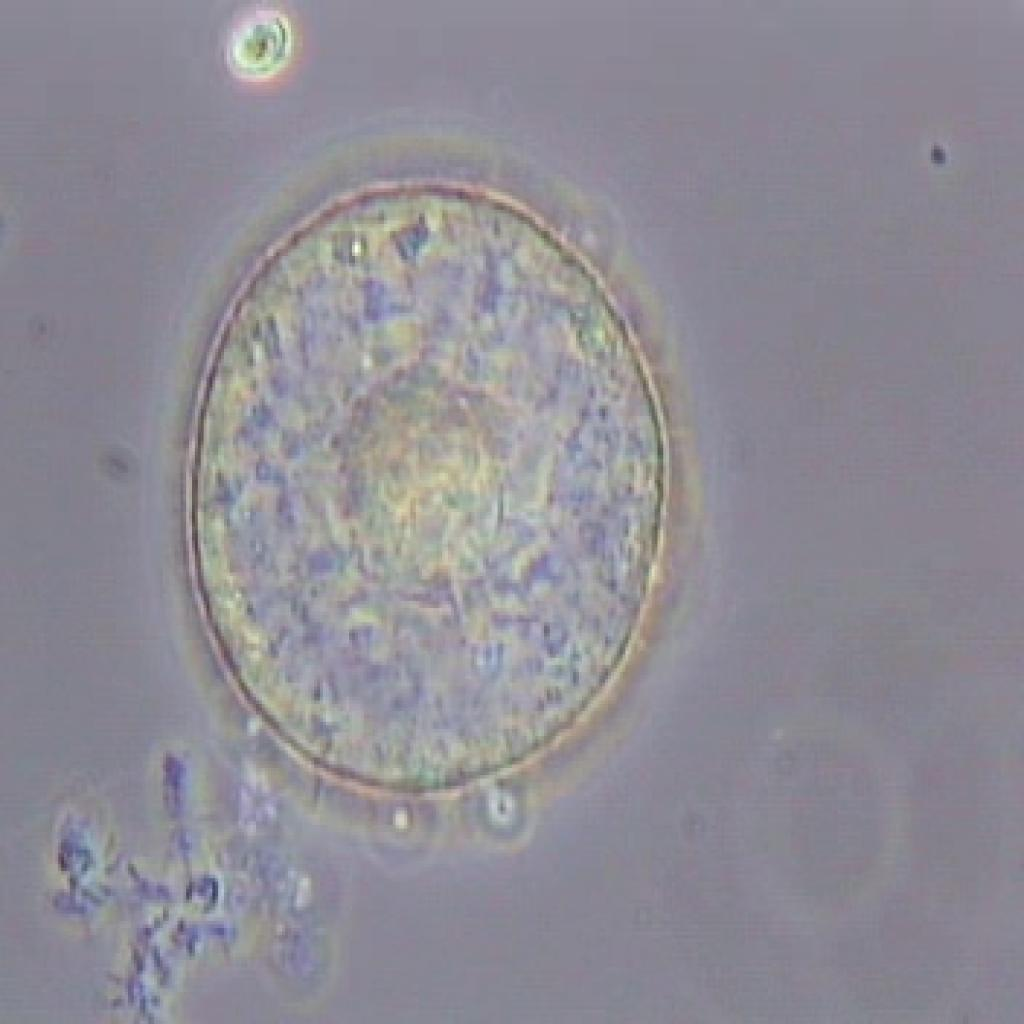Arcella: (146, 151, 701, 820)
